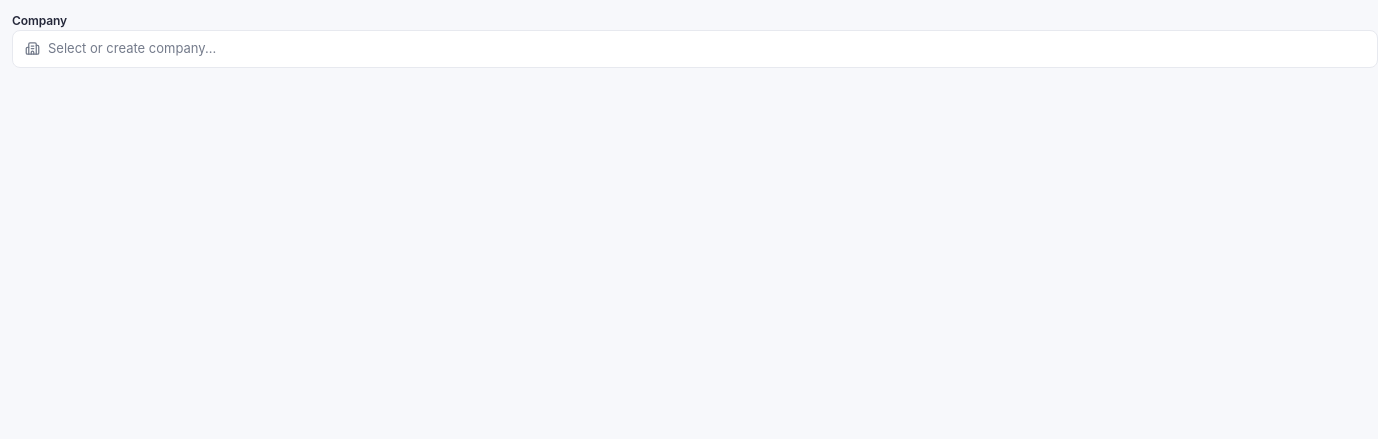
Test: CompanySelectWithCreate › detects duplicate company name before submission
The image size is (1378, 439).
// Open dropdown
Click the text "Select or create company...": (132, 49) [48, 39, 216, 58]
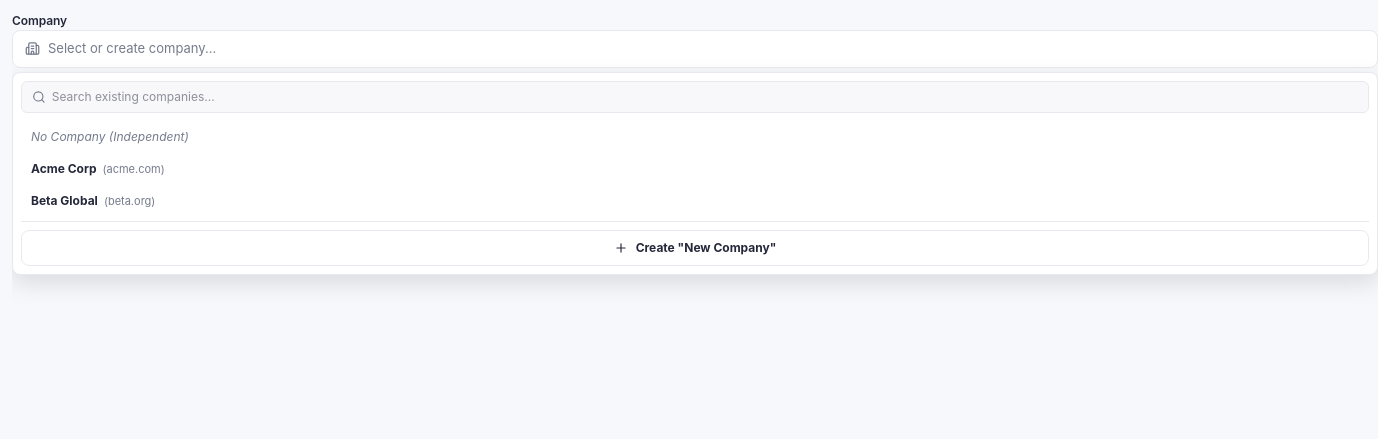
Click the button "Create \"New Company\"": (695, 248) [21, 230, 1369, 266]
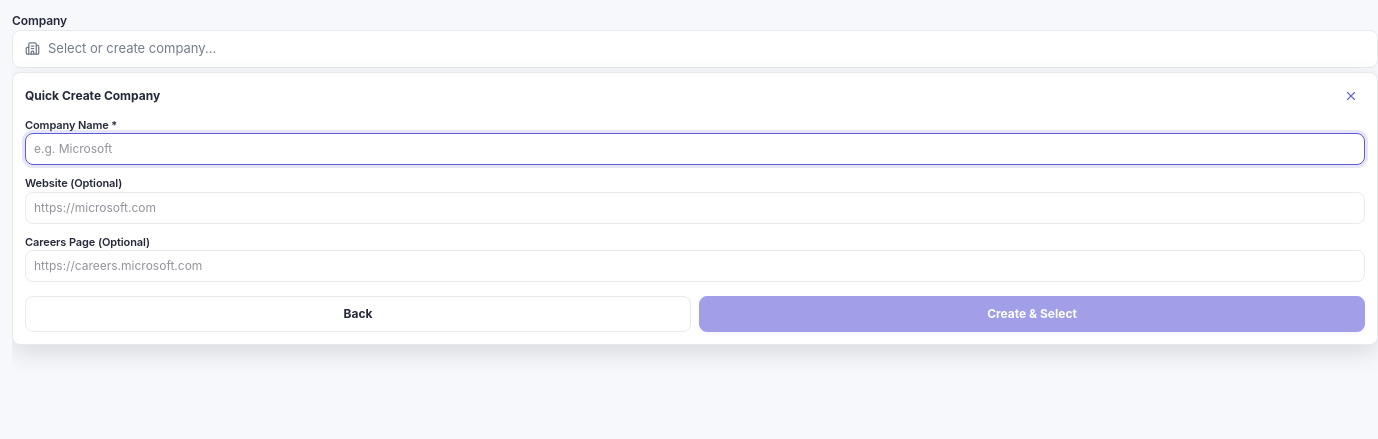
In the field named "Company Name": (695, 149) [25, 133, 1365, 165], type "acme corp"
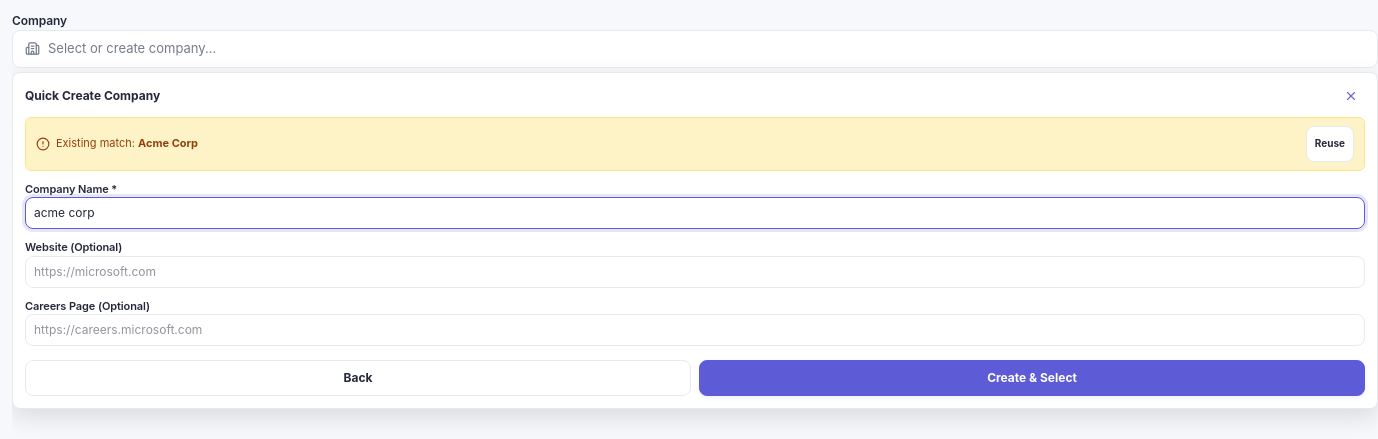
Result: the text "Existing match: Acme Corp" is shown at [56, 135, 198, 152]
